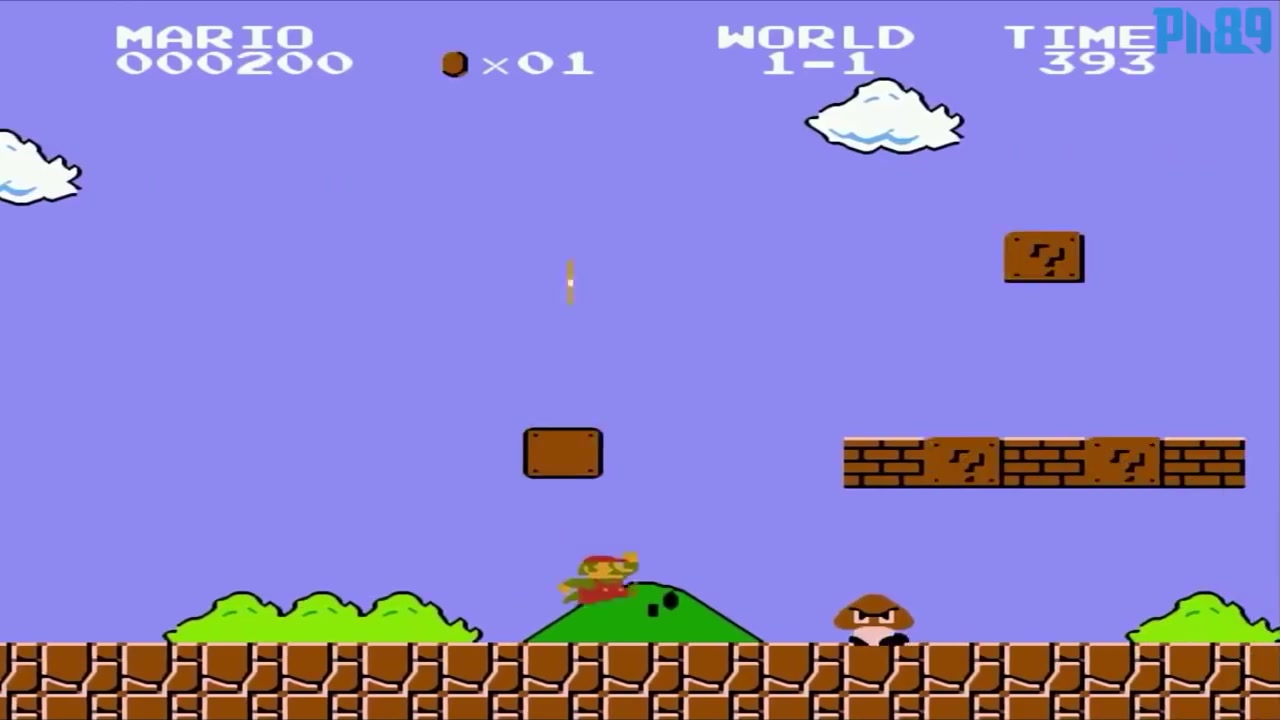mario: (556, 548, 644, 612)
